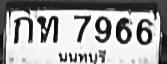6: (115, 16, 131, 43), (136, 18, 151, 44)
7: (73, 14, 90, 42)
9: (94, 15, 110, 42)
A01: (13, 15, 32, 43)
A23: (37, 15, 57, 42)
NBI: (55, 47, 110, 64)
